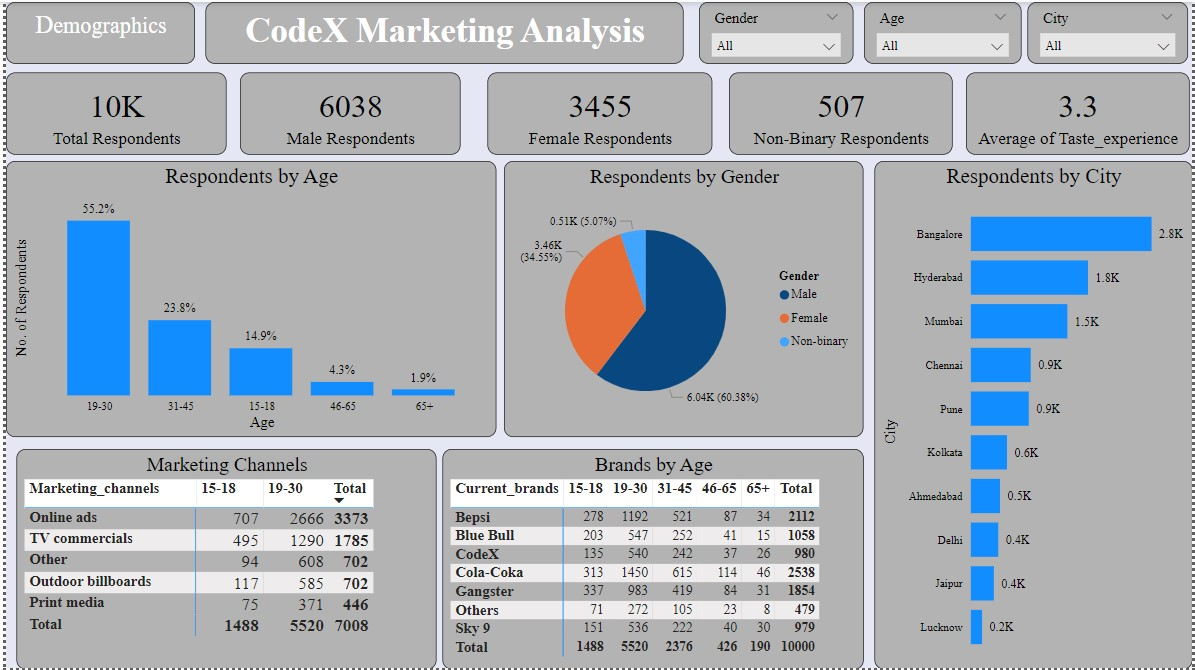

This screenshot's page, from the dashboard's own definition file:
{"tool":"powerbi","page":{"name":"Demographics","canvas":[1280,720],"ordinal":4},"visuals":[{"type":"textbox","box":[215.2,0,516.1,66.3],"z":0},{"type":"textbox","box":[0,0,203.9,66.3],"z":1000},{"type":"pieChart","title":"Respondents by Gender","fields":{"Category":["dim_repondents.Gender"],"Y":["CountNonNull(dim_repondents.Respondent_ID)"]},"box":[537.2,171.5,388.3,297.7],"z":2000},{"type":"clusteredColumnChart","title":"Respondents by Age","fields":{"Category":["dim_repondents.Age"],"Y":["CountNonNull(dim_repondents.Respondent_ID)"]},"box":[0,171.5,529.1,297.7],"z":3000},{"type":"pivotTable","title":"Marketing Channels","fields":{"Rows":["fact_survey_responses.Marketing_channels"],"Values":["CountNonNull(dim_repondents.Age)"],"Columns":["dim_repondents.Age"]},"box":[11.3,482.2,453,237.8],"z":4000},{"type":"slicer","fields":{"Values":["dim_repondents.Gender"]},"box":[747.5,0,166.7,66.3],"z":5000},{"type":"clusteredBarChart","title":"Respondents by City","fields":{"Category":["dim_cities.City"],"Y":["CountNonNull(dim_repondents.Respondent_ID)"]},"box":[936.8,171.5,343,548.5],"z":6000},{"type":"slicer","fields":{"Values":["dim_cities.City"]},"box":[1103.5,0,173.1,66.3],"z":7000},{"type":"slicer","fields":{"Values":["dim_repondents.Age"]},"box":[925.5,0,169.9,66.3],"z":8000},{"type":"card","fields":{"Values":["CountNonNull(fact_survey_responses.Respondent_ID)"]},"box":[0,76,237.8,89],"z":9000},{"type":"card","fields":{"Values":["CountNonNull(dim_repondents.Gender)"]},"box":[252.4,76,237.8,89],"z":10000},{"type":"card","fields":{"Values":["CountNonNull(dim_repondents.Gender)"]},"box":[519.4,76,242.7,89],"z":11000},{"type":"card","fields":{"Values":["CountNonNull(dim_repondents.Gender)"]},"box":[779.9,76,241.1,89],"z":12000},{"type":"pivotTable","title":"Brands by Age","fields":{"Rows":["fact_survey_responses.Current_brands"],"Columns":["dim_repondents.Age"],"Values":["CountNonNull(fact_survey_responses.Respondent_ID)"]},"box":[470.8,482.2,454.7,237.8],"z":13000},{"type":"card","fields":{"Values":["Avg(fact_survey_responses.Taste_experience)"]},"box":[1035.5,76,241.1,89],"z":13001}]}

Visuals, with their boxes in screenshot pixels (x1, y1, x2, y2), scaled from the page's 1280x720 canvas onto the 1195x670 screenshot:
textbox: bbox=[201, 0, 683, 62]
textbox: bbox=[0, 0, 190, 62]
"Respondents by Gender" pieChart: bbox=[502, 160, 864, 437]
"Respondents by Age" clusteredColumnChart: bbox=[0, 160, 494, 437]
"Marketing Channels" pivotTable: bbox=[11, 449, 433, 669]
slicer - dim_repondents.Gender: bbox=[698, 0, 853, 62]
"Respondents by City" clusteredBarChart: bbox=[875, 160, 1194, 669]
slicer - dim_cities.City: bbox=[1030, 0, 1192, 62]
slicer - dim_repondents.Age: bbox=[864, 0, 1023, 62]
card - CountNonNull(fact_survey_responses.Respondent_ID): bbox=[0, 71, 222, 154]
card - CountNonNull(dim_repondents.Gender): bbox=[236, 71, 458, 154]
card - CountNonNull(dim_repondents.Gender): bbox=[485, 71, 711, 154]
card - CountNonNull(dim_repondents.Gender): bbox=[728, 71, 953, 154]
"Brands by Age" pivotTable: bbox=[440, 449, 864, 669]
card - Avg(fact_survey_responses.Taste_experience): bbox=[967, 71, 1192, 154]
